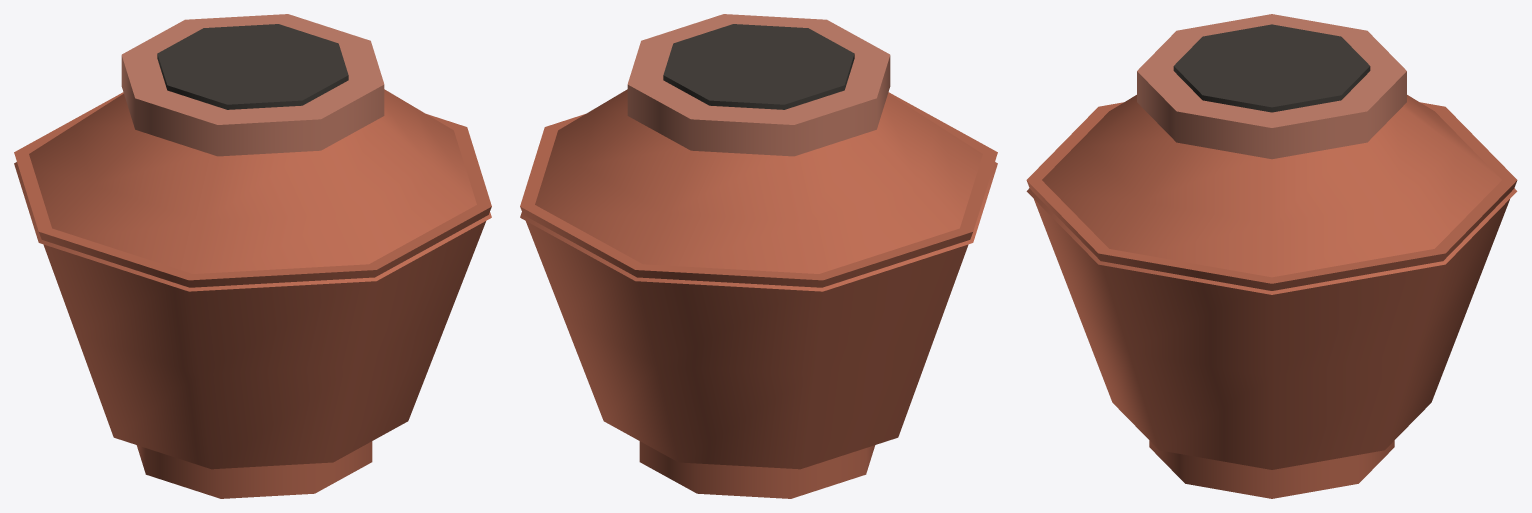
Rendered from urn.glb.
The picture shows the model from 3 angles, left to right: view 1: azimuth 30°, elevation 25°; view 2: azimuth 150°, elevation 25°; view 3: azimuth 270°, elevation 25°; orthographic projection.
Visible parts, largest first — view 1: PotBelly, PotShoulder, PotRim, PotOpening, PotFoot; view 2: PotBelly, PotShoulder, PotRim, PotOpening, PotFoot; view 3: PotBelly, PotShoulder, PotRim, PotOpening, PotFoot.
Boxes of the visible parts, <box> form: PotBelly: <box>14,92,491,469</box>; PotShoulder: <box>14,89,491,291</box>; PotRim: <box>121,14,384,156</box>; PotOpening: <box>157,24,348,109</box>; PotFoot: <box>136,441,372,498</box>; PotBelly: <box>520,92,997,469</box>; PotShoulder: <box>520,89,997,291</box>; PotRim: <box>627,14,890,156</box>; PotOpening: <box>663,24,854,109</box>; PotFoot: <box>639,441,875,498</box>; PotBelly: <box>1026,102,1517,469</box>; PotShoulder: <box>1026,95,1517,294</box>; PotRim: <box>1137,14,1406,159</box>; PotOpening: <box>1173,24,1370,112</box>; PotFoot: <box>1149,440,1394,498</box>.
Size of the model in its own units: 0.76 by 0.651 by 0.76.
